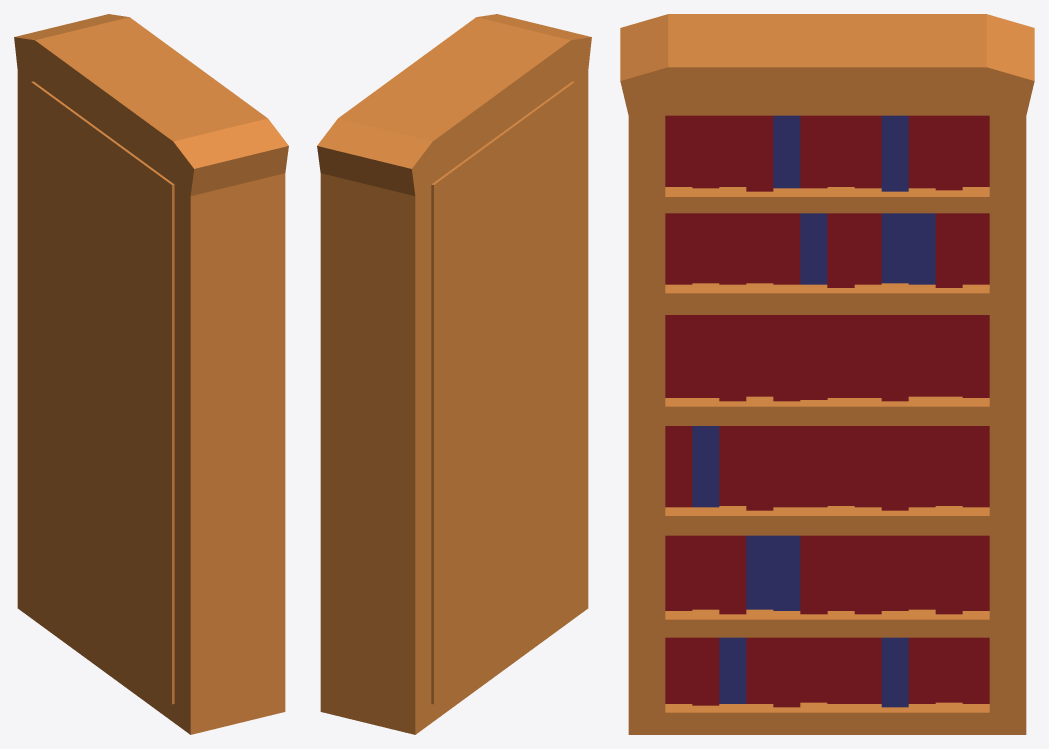
Rendered from shelf full.fbx.
3 renders of one model, left to right at view 1: azimuth 30°, elevation 25°; view 2: azimuth 150°, elevation 25°; view 3: azimuth 270°, elevation 25°, orthographic. The views are drawn at different scales.
Visible parts, largest first — view 1: Shelf full; view 2: Shelf full; view 3: Shelf full.
Part boxes in pixels (x1,y1,x2,y2): Shelf full: (14, 14, 288, 734); Shelf full: (317, 14, 591, 734); Shelf full: (620, 14, 1034, 734).
Size of the model in its own units: 64.91 by 370 by 208.
